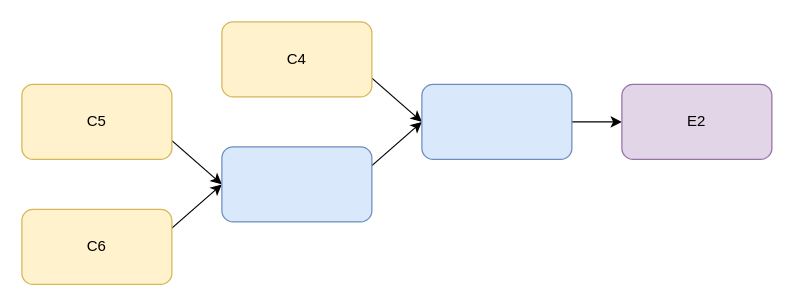
This 794x306 diagram has some shape labels left out. Here are the shapes that lost their labels. From the top down, the box of each, then its label:
(421, 83, 572, 159): OR
(221, 146, 372, 222): AND
